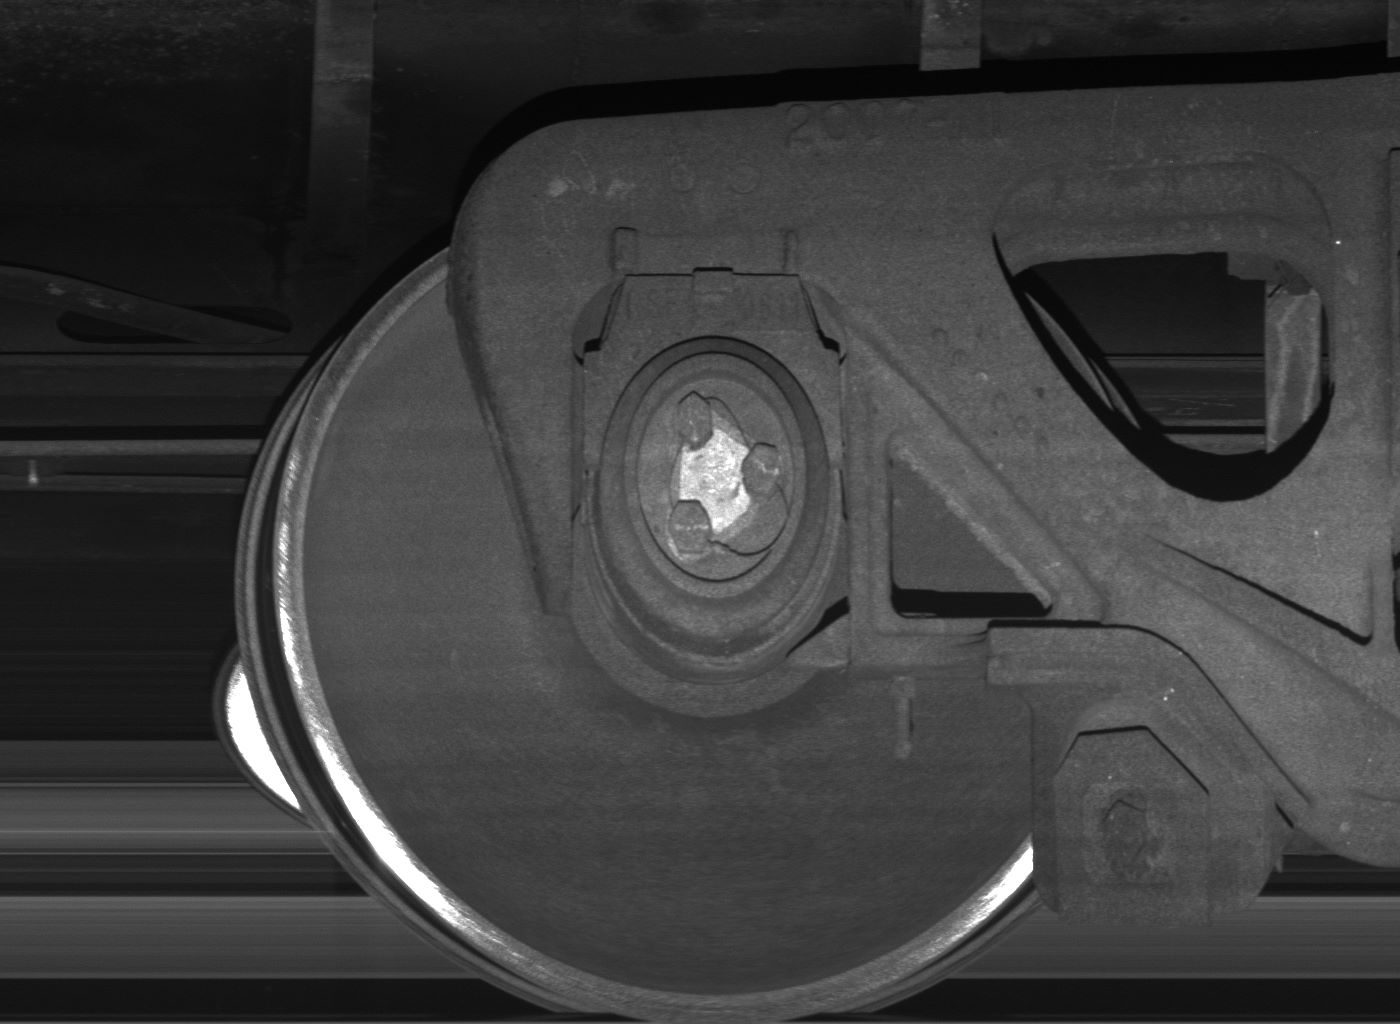normal: (1032, 691, 1268, 926)
